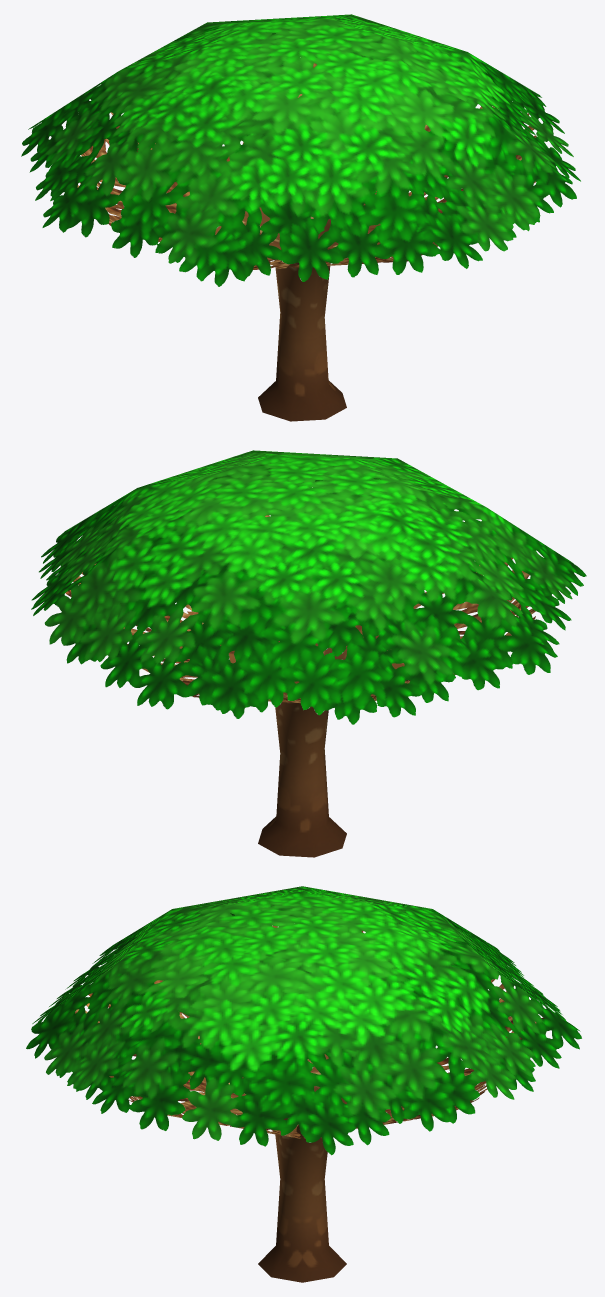
File: Tree_02c.FBX
3 renders of one model, top to bottom at view 1: azimuth 30°, elevation 25°; view 2: azimuth 150°, elevation 25°; view 3: azimuth 270°, elevation 25°, orthographic. The views are drawn at different scales.
Visible parts, largest first — view 1: Tree_02c; view 2: Tree_02c; view 3: Tree_02c.
Boxes of the visible parts, <box> form: Tree_02c: <box>21,14,580,421</box>; Tree_02c: <box>31,450,586,857</box>; Tree_02c: <box>26,886,581,1282</box>.
Size of the model in its own units: 88.51 by 57.33 by 88.51.
